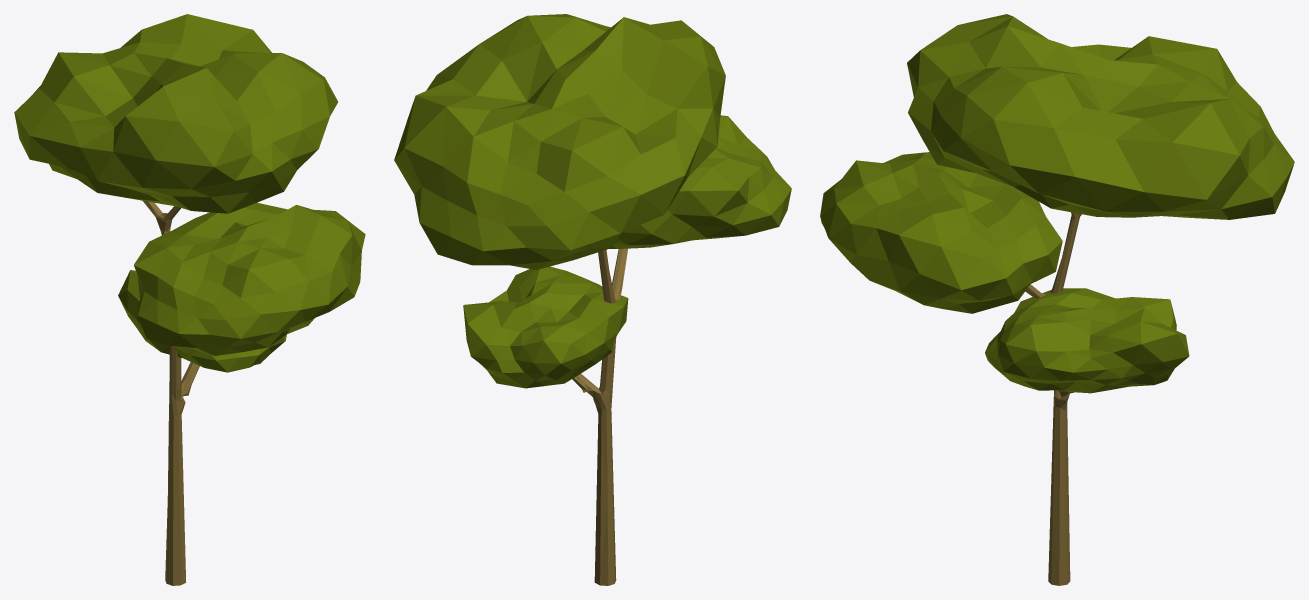
File: pine_2.glb
The picture shows the model from 3 angles, left to right: view 1: azimuth 30°, elevation 25°; view 2: azimuth 150°, elevation 25°; view 3: azimuth 270°, elevation 25°; orthographic projection. The views are drawn at different scales.
Visible parts, largest first — view 1: Icosphere.003; view 2: Icosphere.003; view 3: Icosphere.003.
Part boxes in pixels (x1,y1,x2,y2): Icosphere.003: (14, 14, 365, 585); Icosphere.003: (394, 14, 791, 585); Icosphere.003: (820, 14, 1294, 585).
Size of the model in its own units: 9.13 by 17.22 by 13.26.
